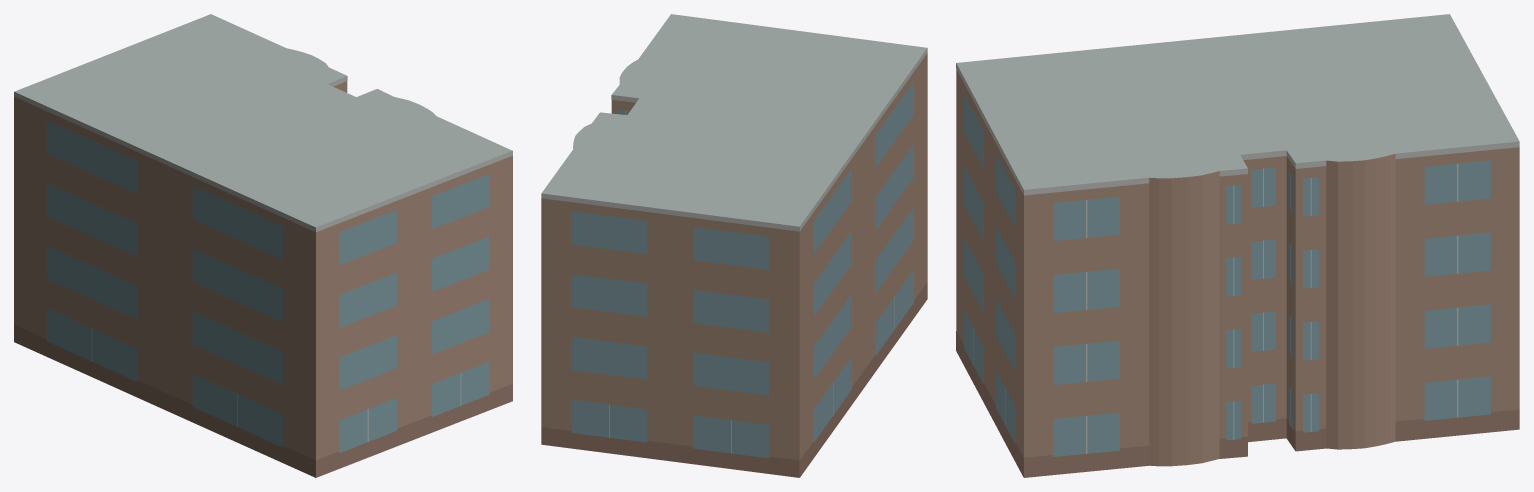
The model's file is survey-upis-33015466.glb.
3 renders of one model, left to right at view 1: azimuth 30°, elevation 25°; view 2: azimuth 150°, elevation 25°; view 3: azimuth 270°, elevation 25°, orthographic. The views are drawn at different scales.
Parts seen in each view (by area): view 1: survey-upis-33015466.tmp; view 2: survey-upis-33015466.tmp; view 3: survey-upis-33015466.tmp.
Boxes of the visible parts, bbox=[...] form: survey-upis-33015466.tmp: bbox=[14, 14, 512, 477]; survey-upis-33015466.tmp: bbox=[541, 14, 927, 477]; survey-upis-33015466.tmp: bbox=[956, 14, 1519, 477].
Size of the model in its own units: 16.53 by 12.61 by 22.38.
